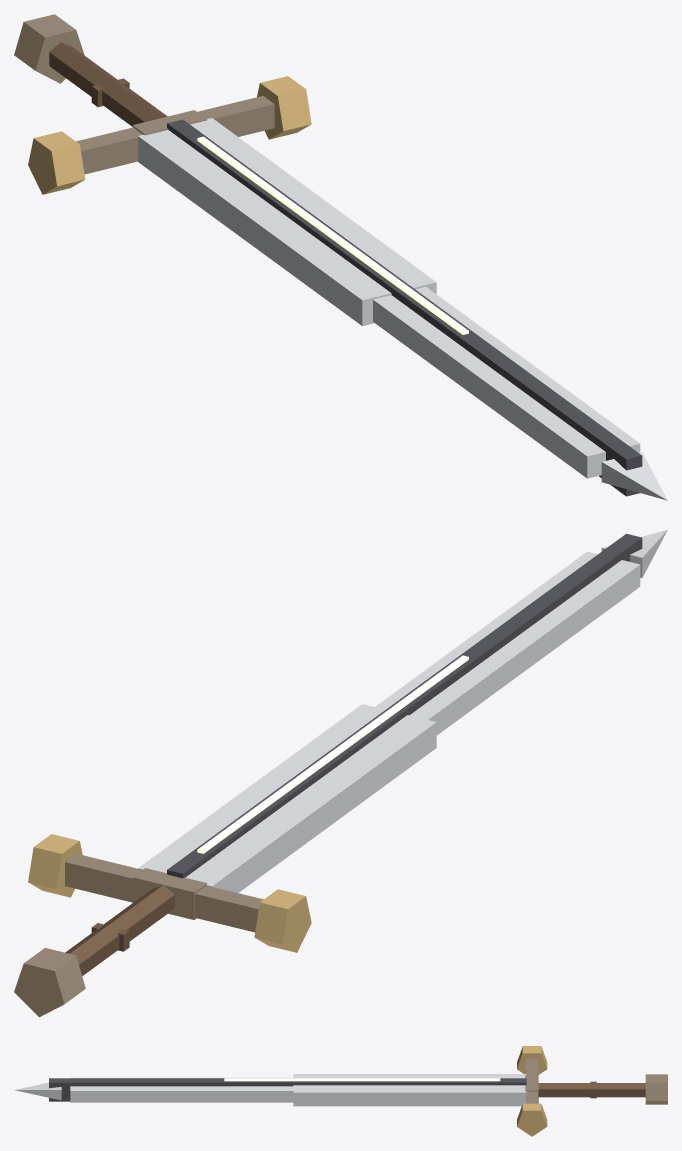
File: bastard_sword.glb
The picture shows the model from 3 angles, top to bottom: view 1: azimuth 30°, elevation 25°; view 2: azimuth 150°, elevation 25°; view 3: azimuth 270°, elevation 25°; orthographic projection. The views are drawn at different scales.
Parts seen in each view (by area): view 1: BladeLower, BladeUpper, BladeSpine, Grip, QuillonCapR, BladeInlay, Pommel, QuillonCapL, QuillonR, QuillonL, BladePoint, GuardCore; view 2: BladeLower, BladeUpper, BladeSpine, Pommel, Grip, QuillonCapR, BladeInlay, QuillonL, QuillonCapL, QuillonR, GuardCore, BladePoint; view 3: BladeLower, BladeUpper, BladeSpine, Grip, BladeInlay, QuillonCapL, Pommel, QuillonCapR, BladePoint, GuardCore, QuillonR.
Boxes of the visible parts, left/top/right/bottom form: BladeLower: left=138, top=118, right=436, bottom=325; BladeUpper: left=373, top=286, right=640, bottom=478; BladeSpine: left=167, top=119, right=642, bottom=496; Grip: left=49, top=42, right=167, bottom=126; QuillonCapR: left=28, top=131, right=85, bottom=194; BladeInlay: left=197, top=136, right=468, bottom=334; Pommel: left=14, top=14, right=84, bottom=83; QuillonCapL: left=257, top=76, right=311, bottom=139; QuillonR: left=76, top=127, right=142, bottom=174; QuillonL: left=197, top=96, right=274, bottom=136; BladePoint: left=601, top=452, right=667, bottom=500; GuardCore: left=132, top=110, right=207, bottom=135; BladeLower: left=138, top=704, right=436, bottom=892; BladeUpper: left=375, top=551, right=640, bottom=735; BladeSpine: left=167, top=533, right=642, bottom=878; Pommel: left=14, top=948, right=85, bottom=1017; Grip: left=65, top=885, right=174, bottom=975; QuillonCapR: left=254, top=889, right=311, bottom=952; BladeInlay: left=197, top=655, right=468, bottom=853; QuillonL: left=65, top=853, right=141, bottom=902; QuillonCapL: left=28, top=834, right=82, bottom=897; QuillonR: left=195, top=886, right=263, bottom=932; GuardCore: left=132, top=868, right=207, bottom=919; BladePoint: left=601, top=529, right=667, bottom=577; BladeLower: left=293, top=1074, right=526, bottom=1106; BladeUpper: left=70, top=1077, right=293, bottom=1102; BladeSpine: left=49, top=1078, right=526, bottom=1101; Grip: left=538, top=1083, right=645, bottom=1097; BladeInlay: left=224, top=1078, right=500, bottom=1081; QuillonCapL: left=517, top=1103, right=547, bottom=1136; Pommel: left=645, top=1074, right=667, bottom=1104; QuillonCapR: left=517, top=1046, right=547, bottom=1074; BladePoint: left=14, top=1082, right=61, bottom=1100; GuardCore: left=525, top=1075, right=538, bottom=1103; QuillonR: left=526, top=1058, right=537, bottom=1074.
Size of the model in its own units: 0.288 by 0.0543 by 1.23.
